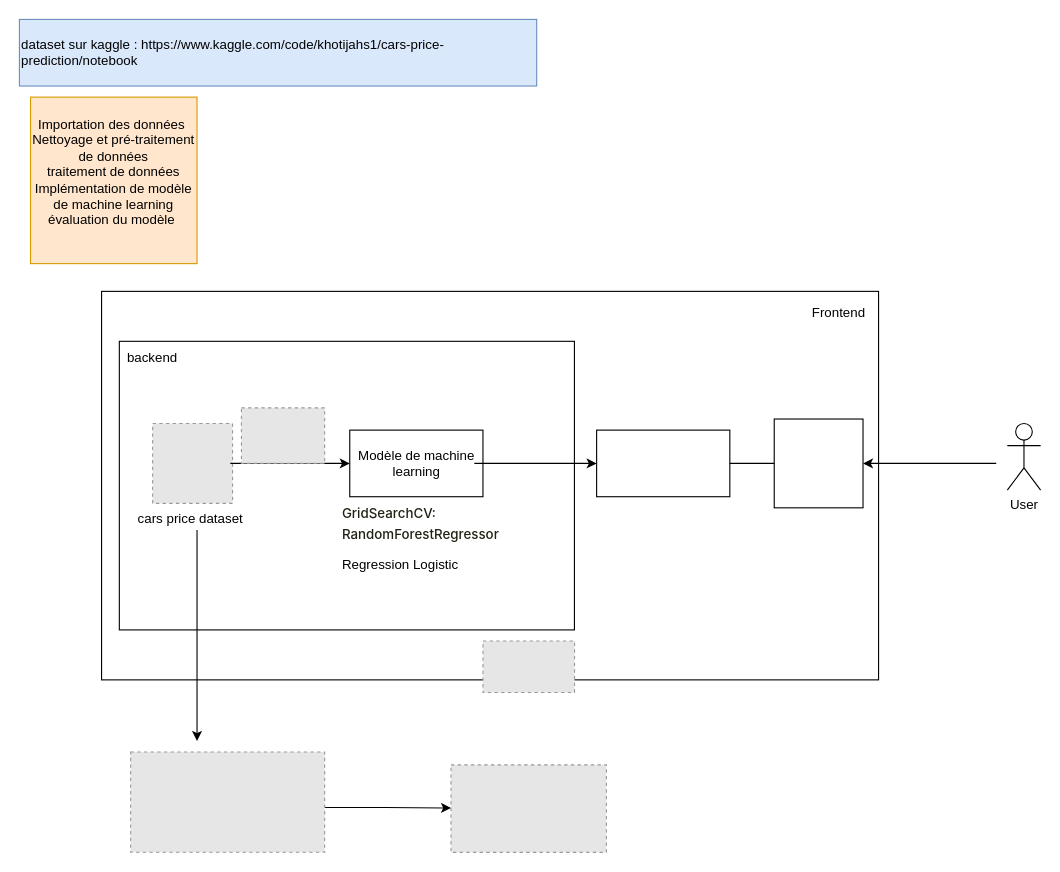
This 1060x872 diagram has some shape labels left out. Grey dashed boxes stand in for pictures. Each missing label, with the centre of its shape:
Forms: point 818,463
Prediction des prix: point 663,463
